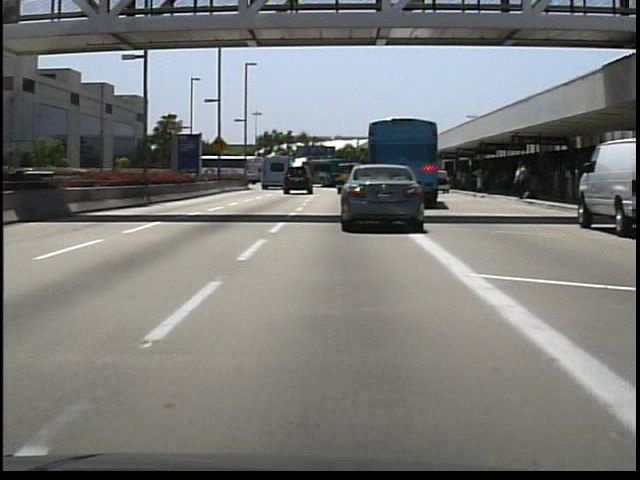person: (514, 159, 531, 202)
